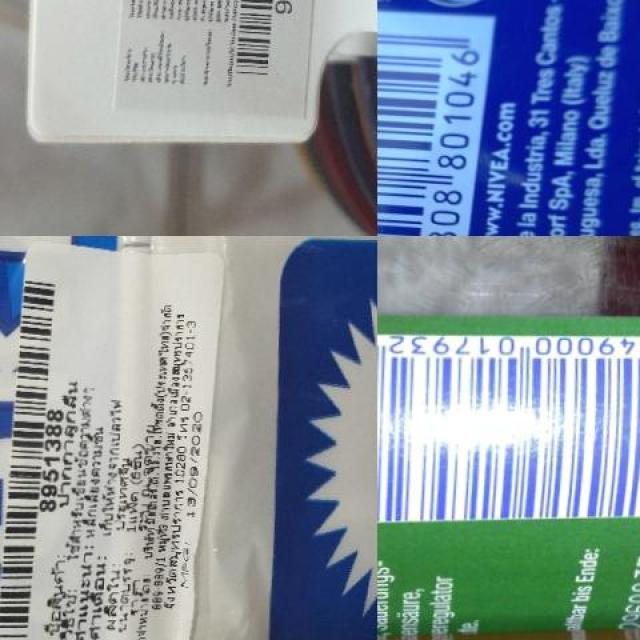Barcode: (377, 331, 640, 524), (377, 7, 512, 236), (0, 268, 71, 640), (228, 0, 302, 85)
